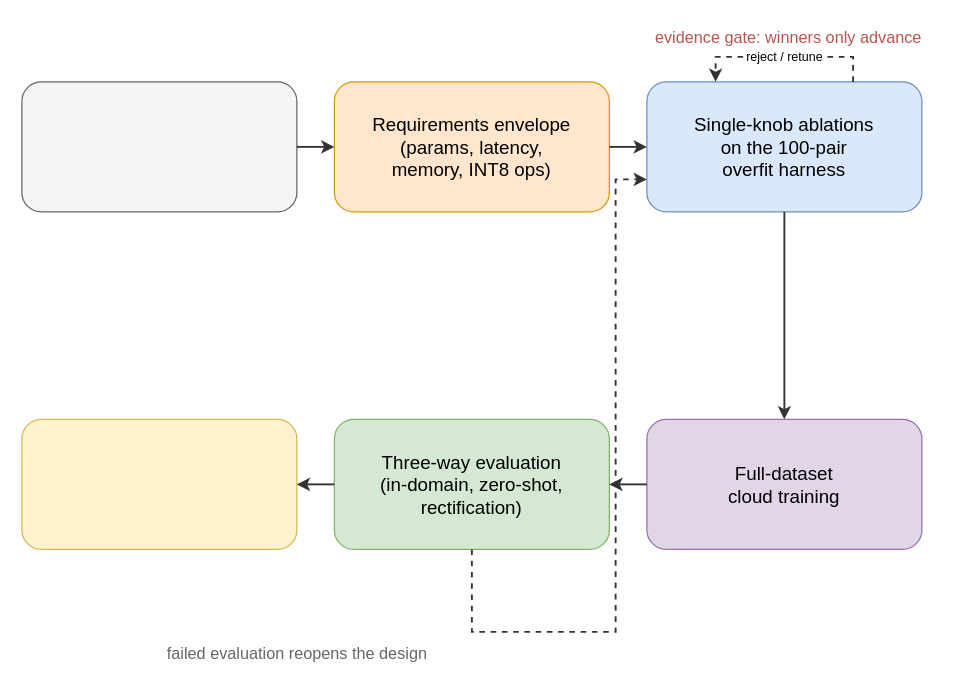
Some shapes in this 979 by 689 pixel diagram are drawn without their labels. Here are the shapes that lost their labels. From the top down, the centre of each, then its label:
point 159,146: Literature study (surveyed families, reference designs)
point 159,483: Edge optimization + on-device latency
